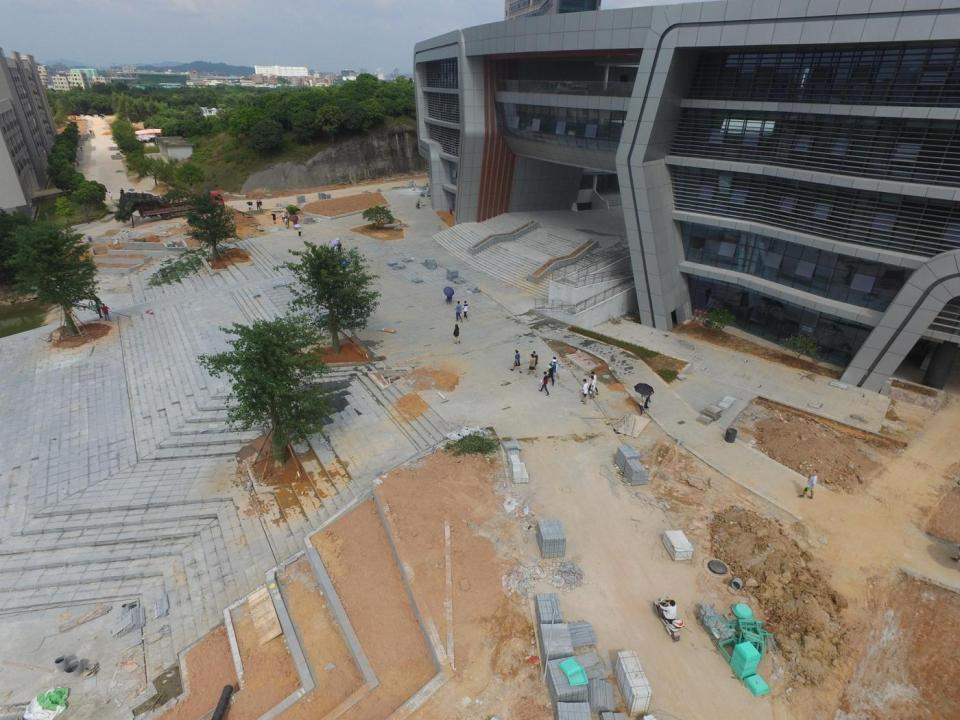truck: (136, 190, 226, 219)
